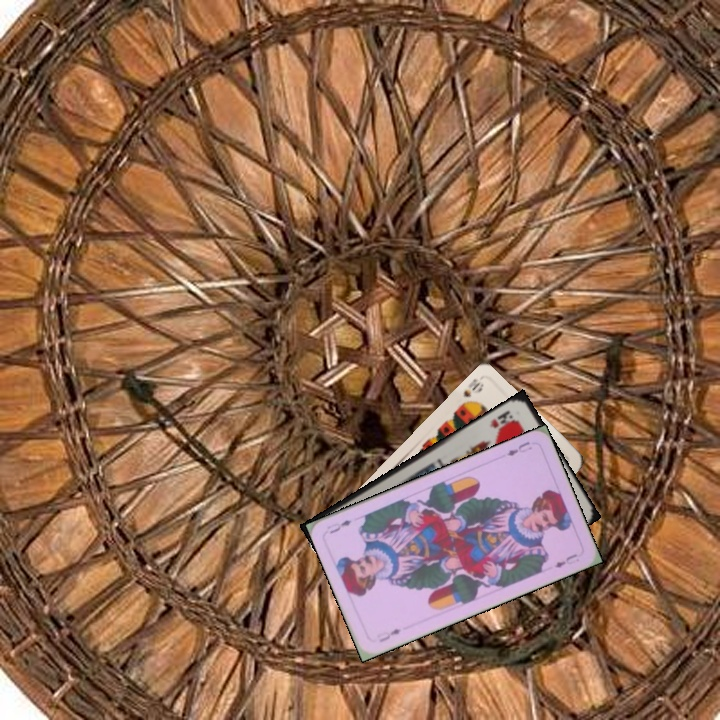EU: (502, 438, 534, 459), (372, 624, 404, 645)
HK: (485, 406, 517, 432)
S10: (455, 374, 486, 410)
